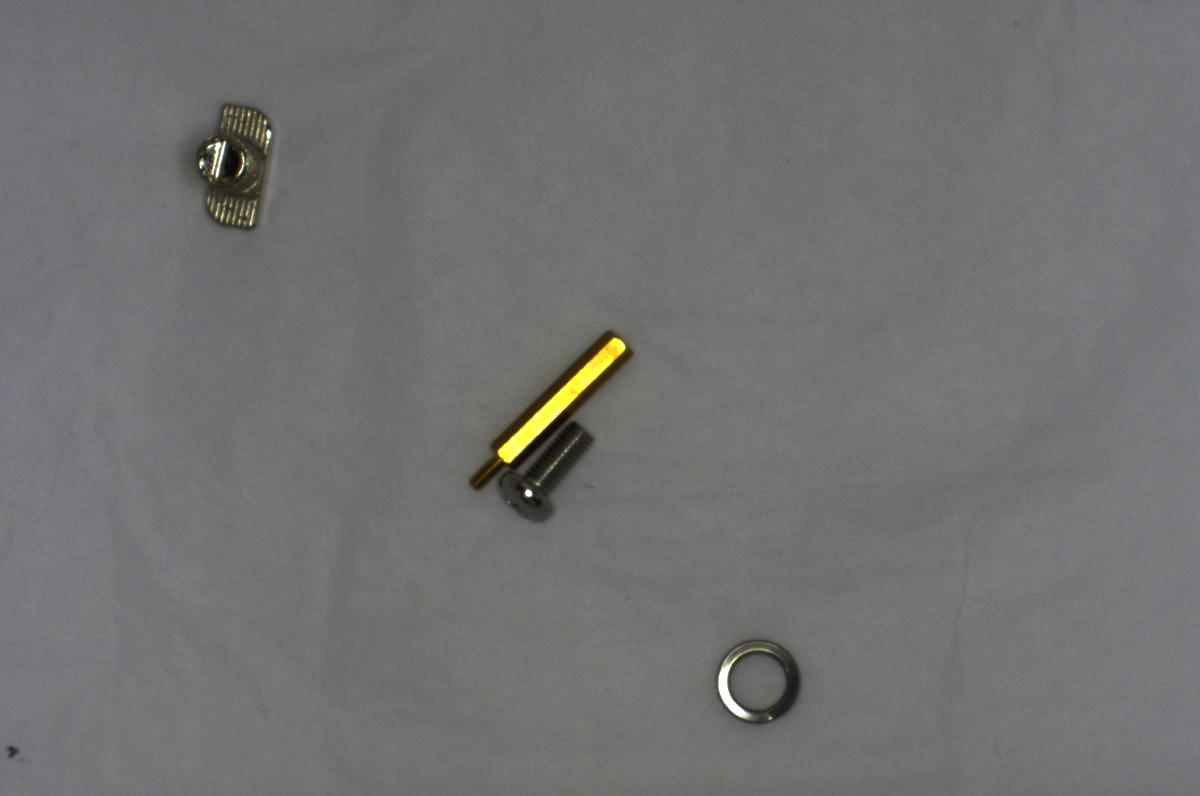Hexagon pillar: (460, 325, 634, 489)
Round head screw: (495, 428, 597, 528)
Spring washer: (707, 627, 804, 736)
T-shaped screw: (192, 87, 282, 239)
